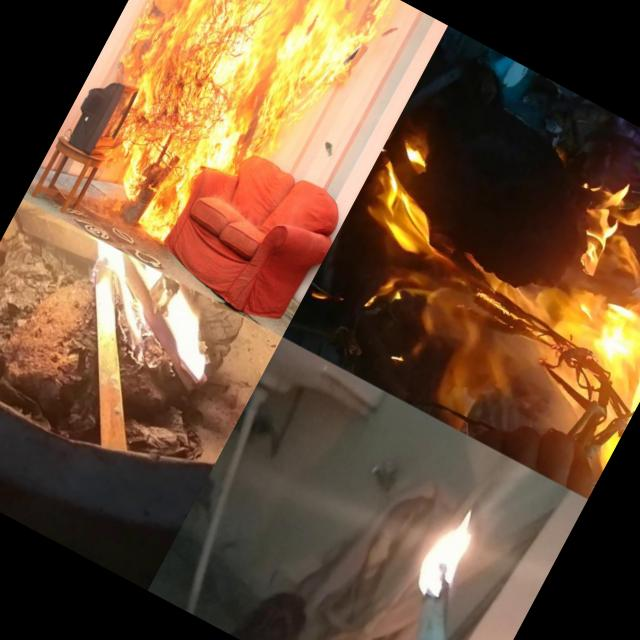fire: (37, 0, 395, 294), (0, 198, 242, 387), (381, 483, 517, 634)
